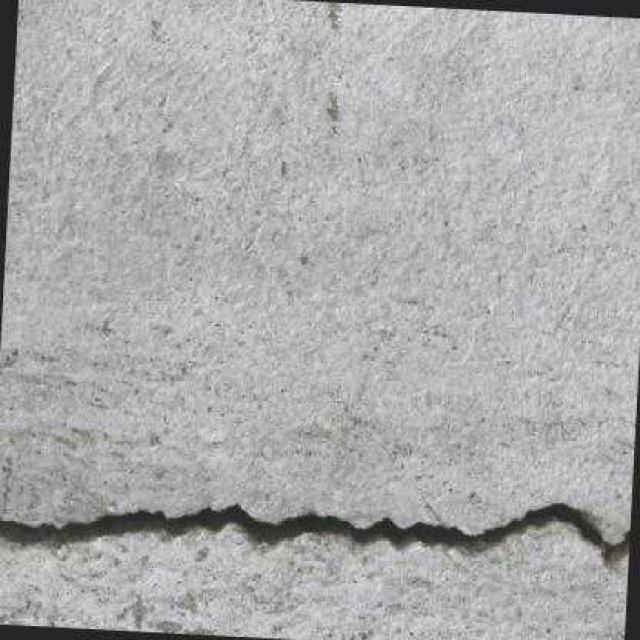D00: (0, 500, 630, 568)
